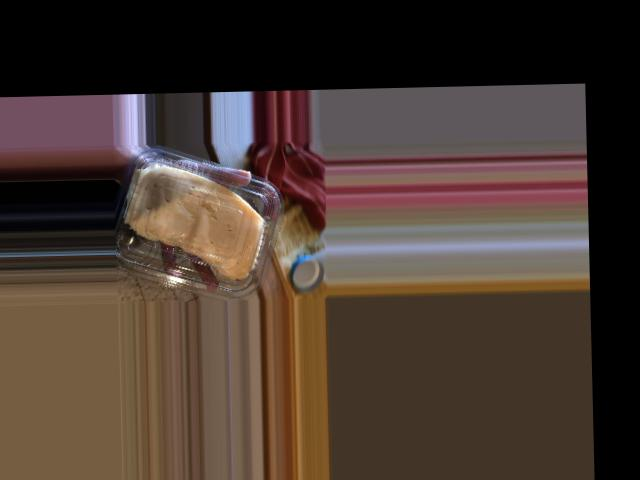cheese: (112, 152, 287, 296)
